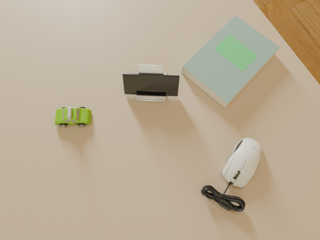book: (182, 16, 280, 108)
mouse: (222, 138, 262, 187)
phone: (123, 73, 179, 96)
toy_car: (55, 107, 91, 127)
